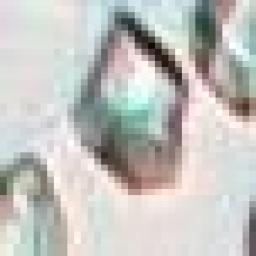crystals: (71, 7, 191, 198)
